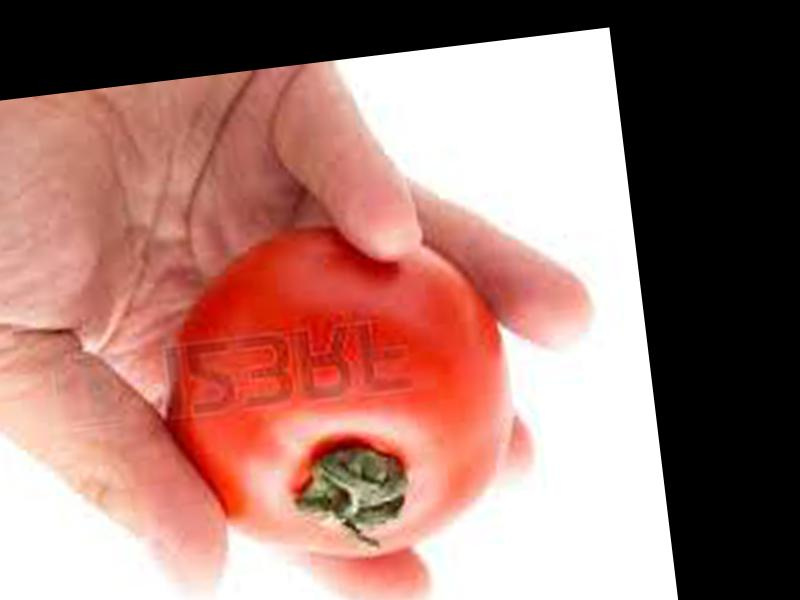Tomato: (150, 208, 529, 577)
